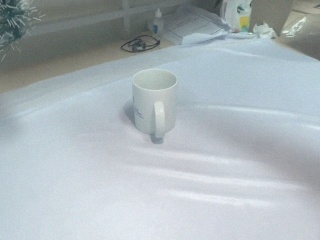cup: (130, 68, 179, 145)
